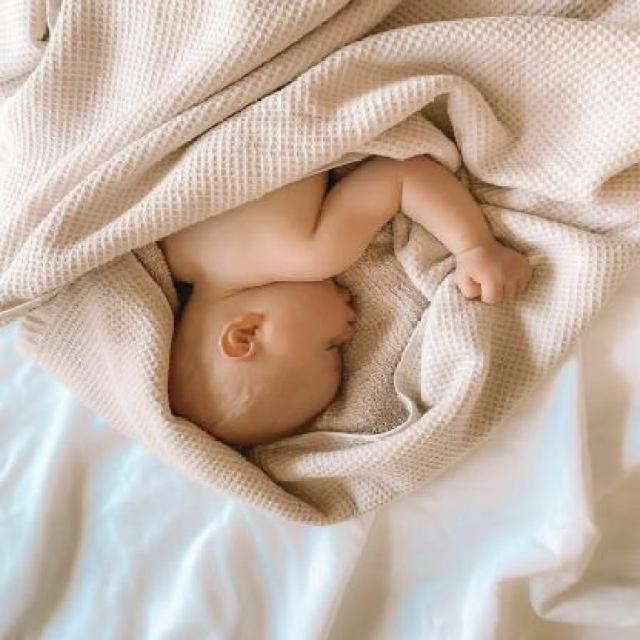baby: (162, 142, 536, 450)
